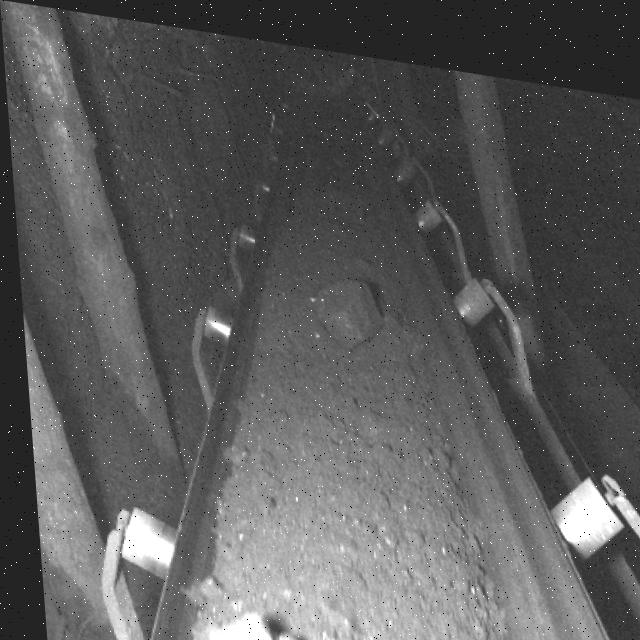large_sized_coal: (185, 594, 303, 640), (309, 263, 380, 339)
